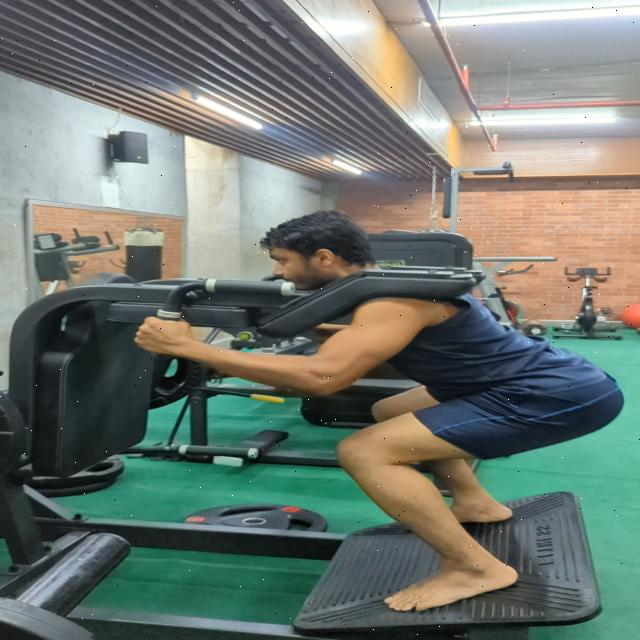Normal_SquatsWithBarbell: (2, 148, 640, 640)
